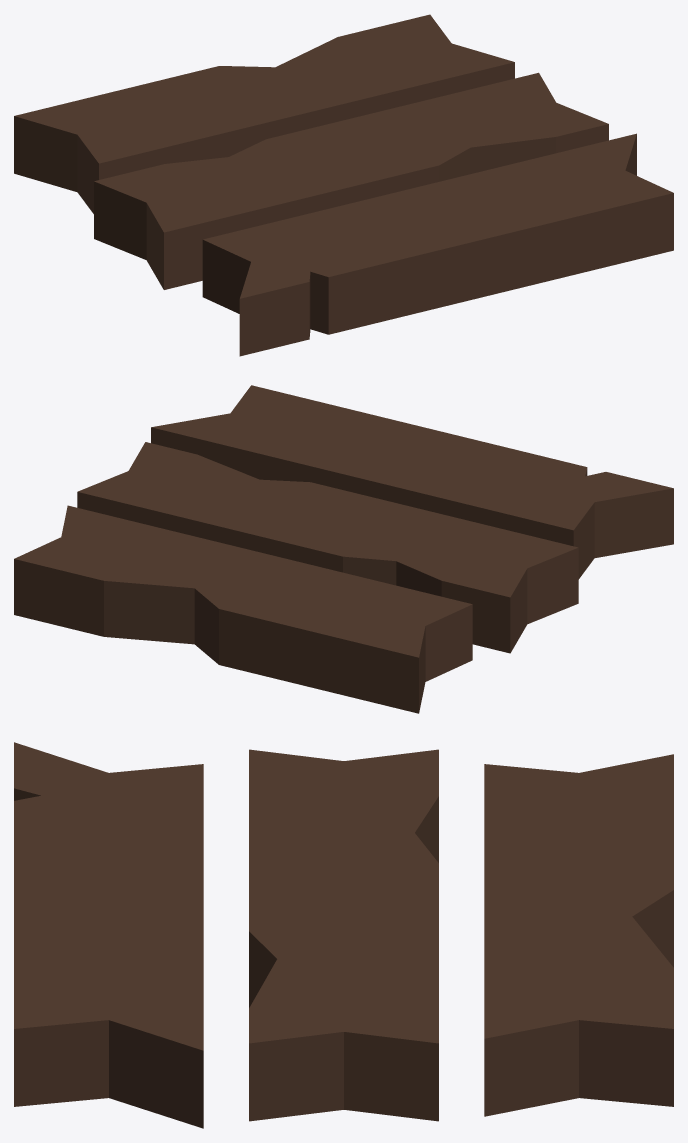
Rendered from Bridge.fbx.
3 renders of one model, top to bottom at view 1: azimuth 30°, elevation 25°; view 2: azimuth 150°, elevation 25°; view 3: azimuth 270°, elevation 25°, orthographic. The views are drawn at different scales.
Visible parts, largest first — view 1: Cube; view 2: Cube; view 3: Cube.
Boxes of the visible parts, x1,y1,x2,y2 form: Cube: (14,14,673,356); Cube: (14,385,673,713); Cube: (14,742,673,1128).
Bounding box in the file's own units: 233 × 27.44 × 211.
